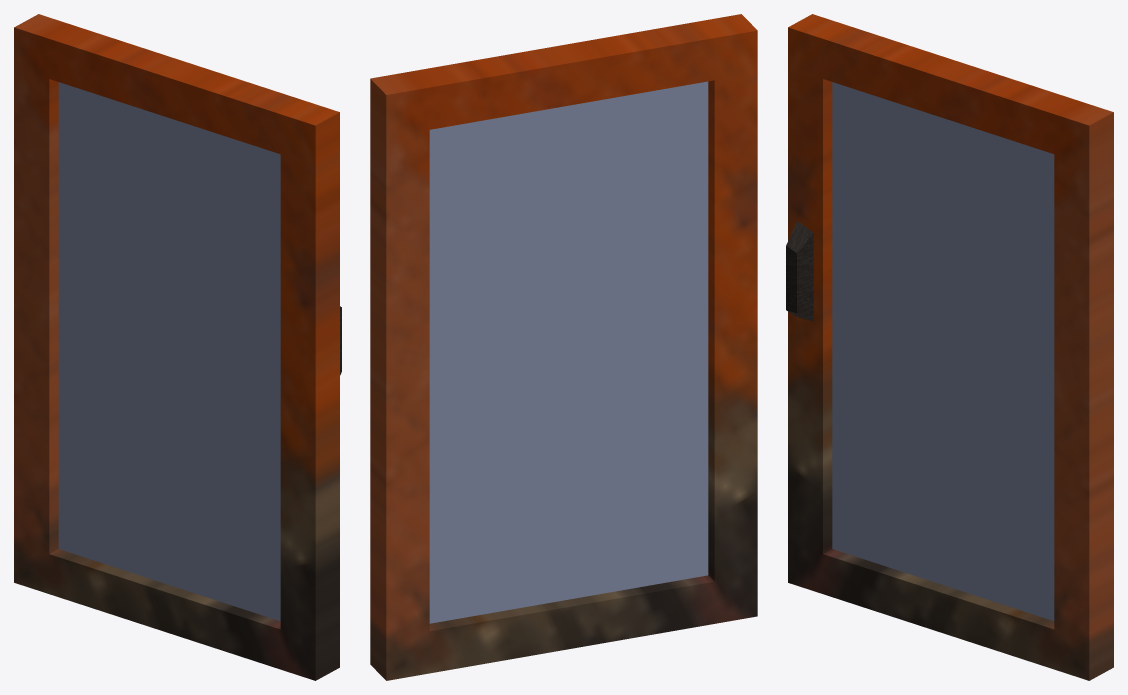
File: door.glb
The picture shows the model from 3 angles, left to right: view 1: azimuth 90°, elevation 25°; view 2: azimuth 150°, elevation 25°; view 3: azimuth 270°, elevation 25°; orthographic projection. The views are drawn at different scales.
Visible parts, largest first — view 1: door; view 2: door; view 3: door.
Boxes of the visible parts, x1,y1,x2,y2 form: door: [14, 14, 341, 680]; door: [370, 14, 757, 680]; door: [786, 14, 1113, 680].
Bounding box in the file's own units: 0.7534 × 1.75 × 0.9344.
2 materials, 1 textured.
